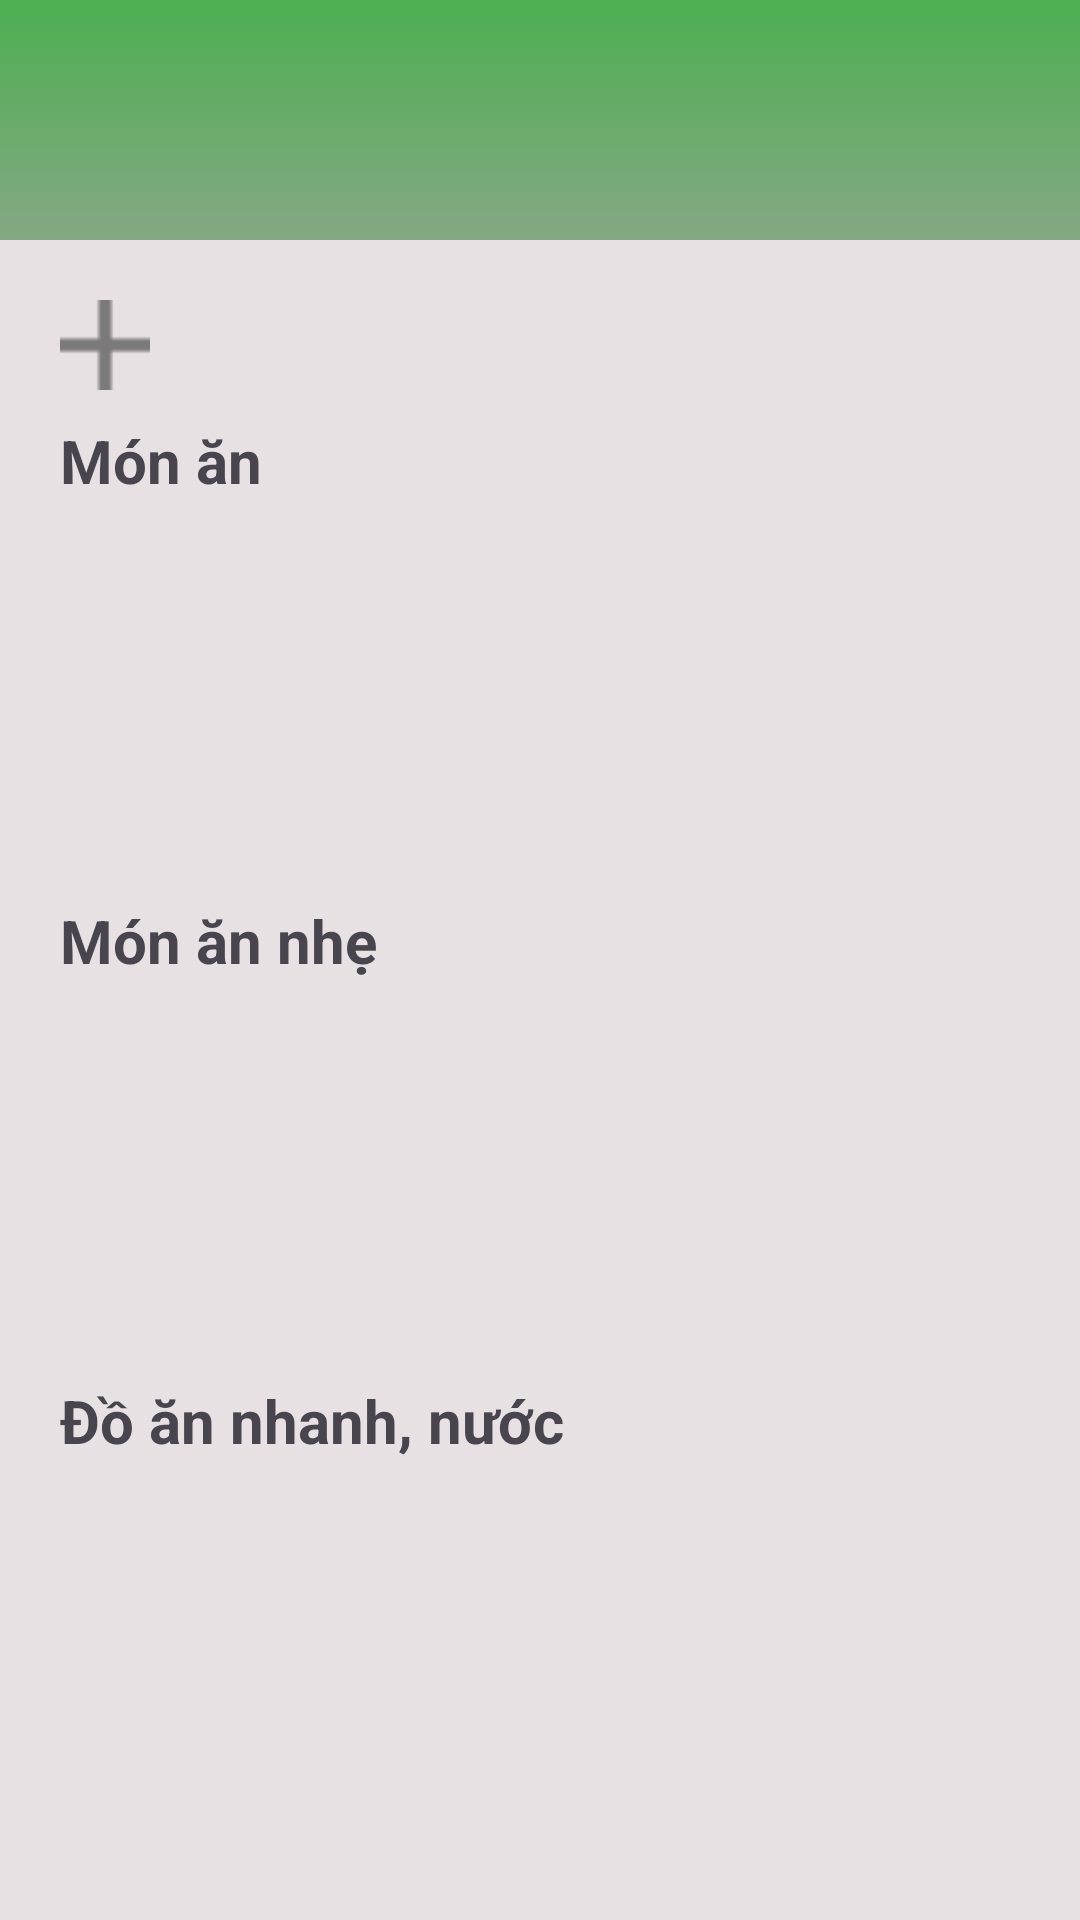

Where to tap for icons on this 1080px×1920px app screen, as (x,y):
add: (105,345)
